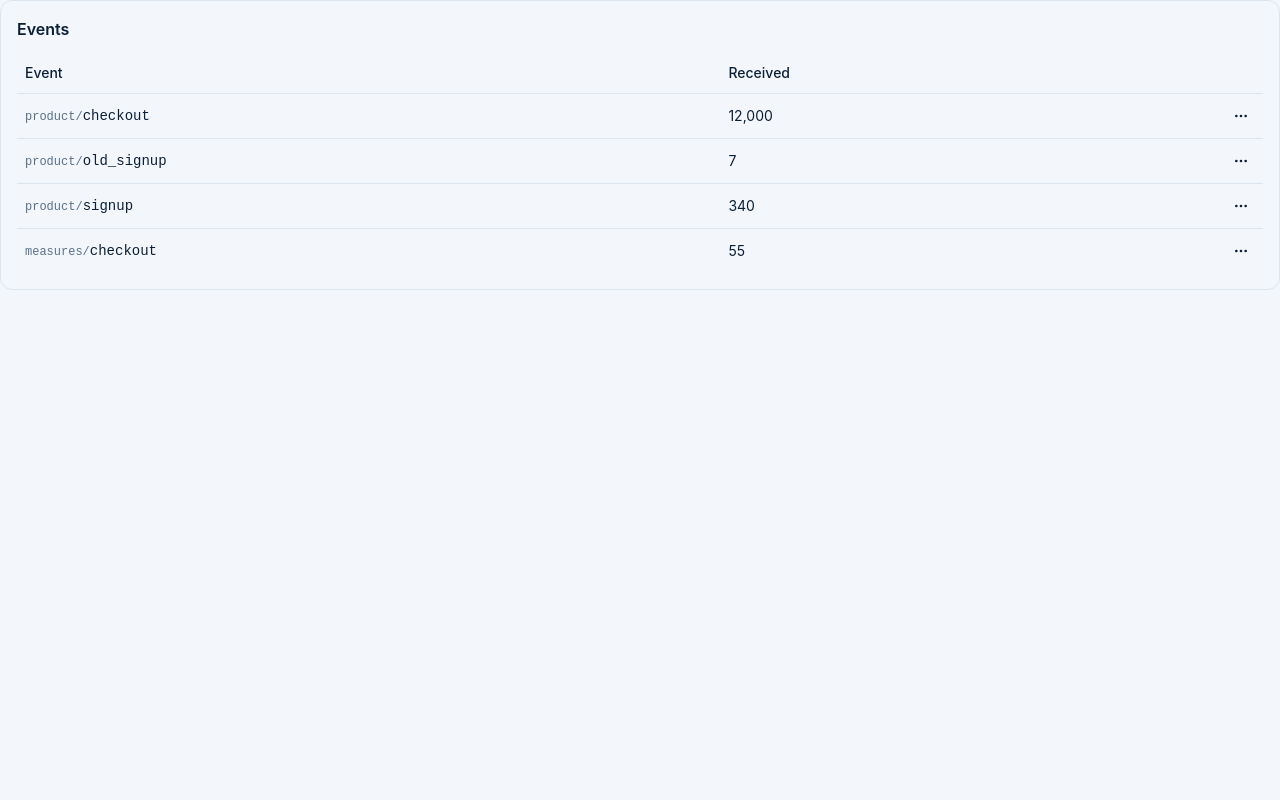
Scenario: EventsSection › adds an alias to an event with none yet from its menu
The image size is (1280, 800).
Click the button named "Actions for signup (product)" at (1241, 206), box top-left (1227, 192), bottom-right (1255, 220)
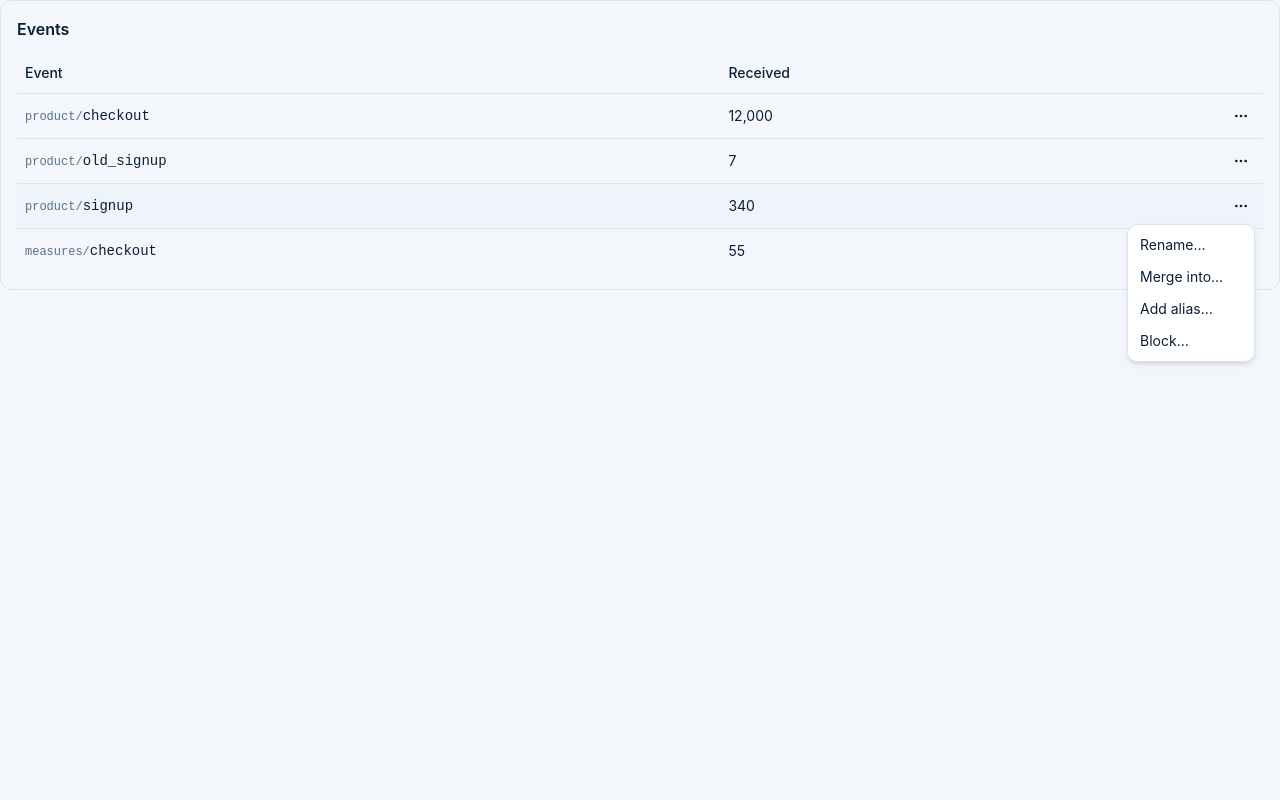
Click the menu item "Add alias…" at (1176, 308), box top-left (1140, 300), bottom-right (1213, 317)
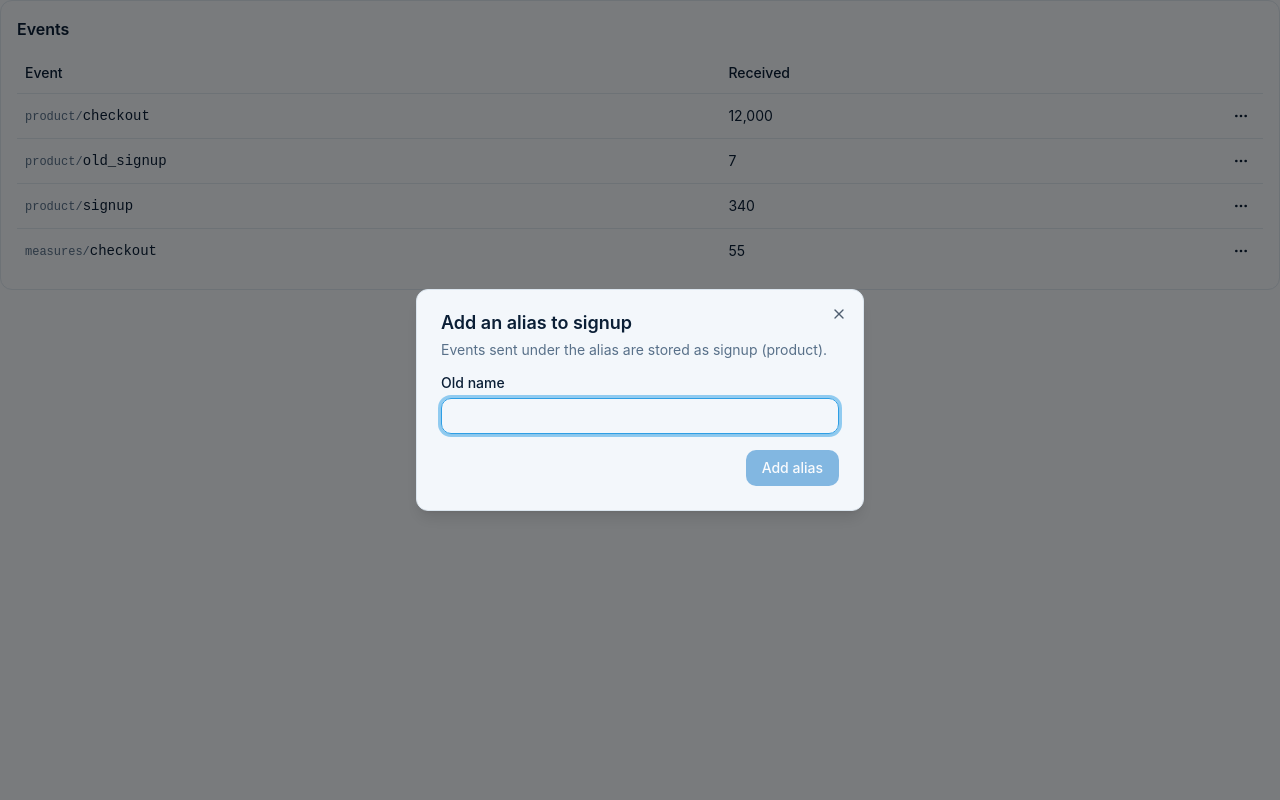
Type " sign_up_v1 " into the field labelled "Old name" at (640, 416), box top-left (441, 398), bottom-right (839, 434)
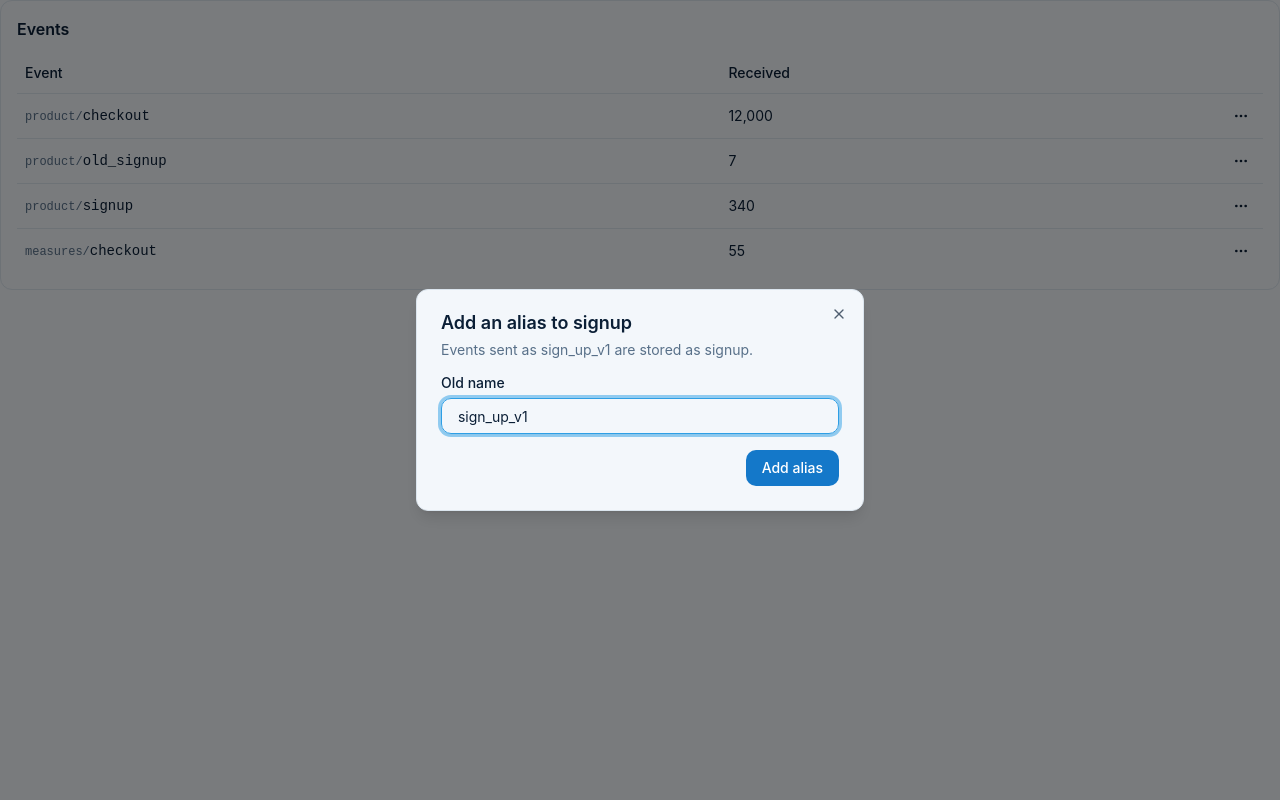
Expected: the text "Events sent as sign_up_v1 are stored as signup." is shown, top-left (441, 341), bottom-right (753, 358)
Click the button "Add alias" at (792, 468), box top-left (746, 450), bottom-right (839, 486)
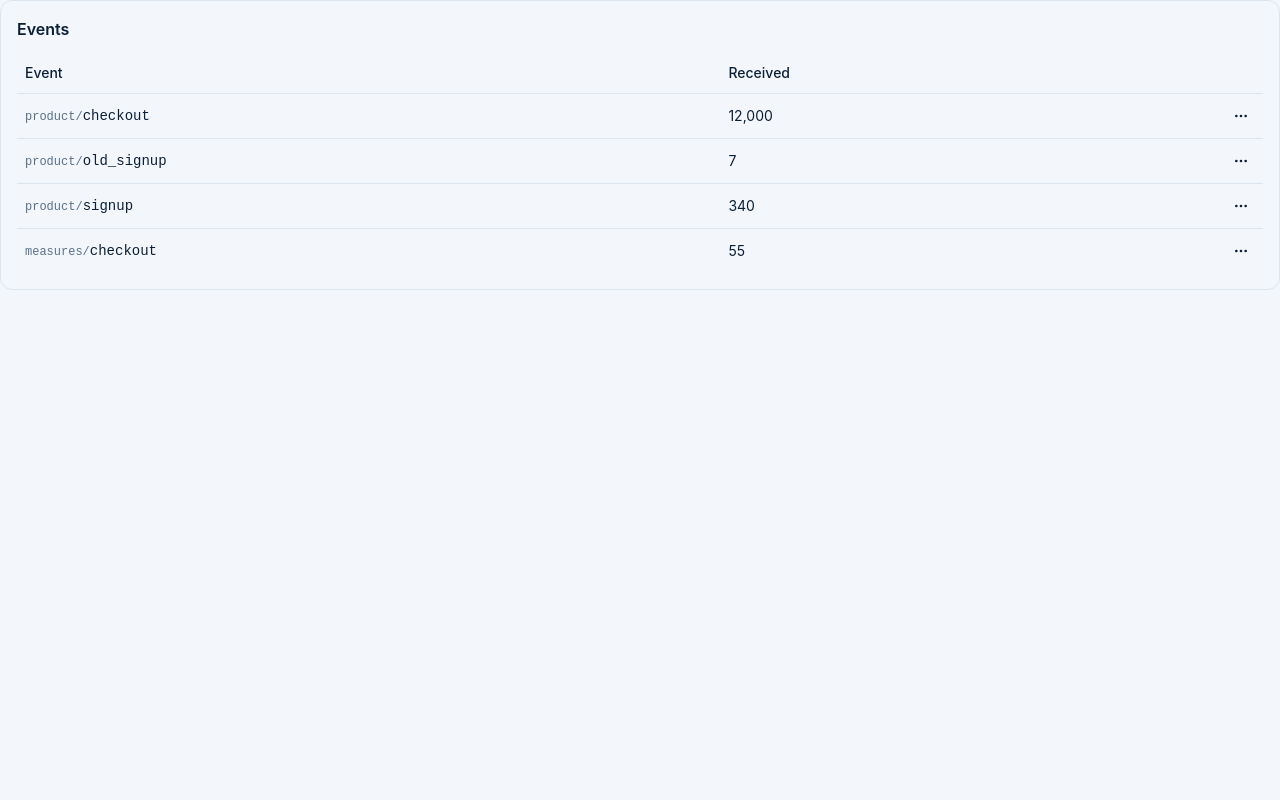
Expected: the dialog is gone
